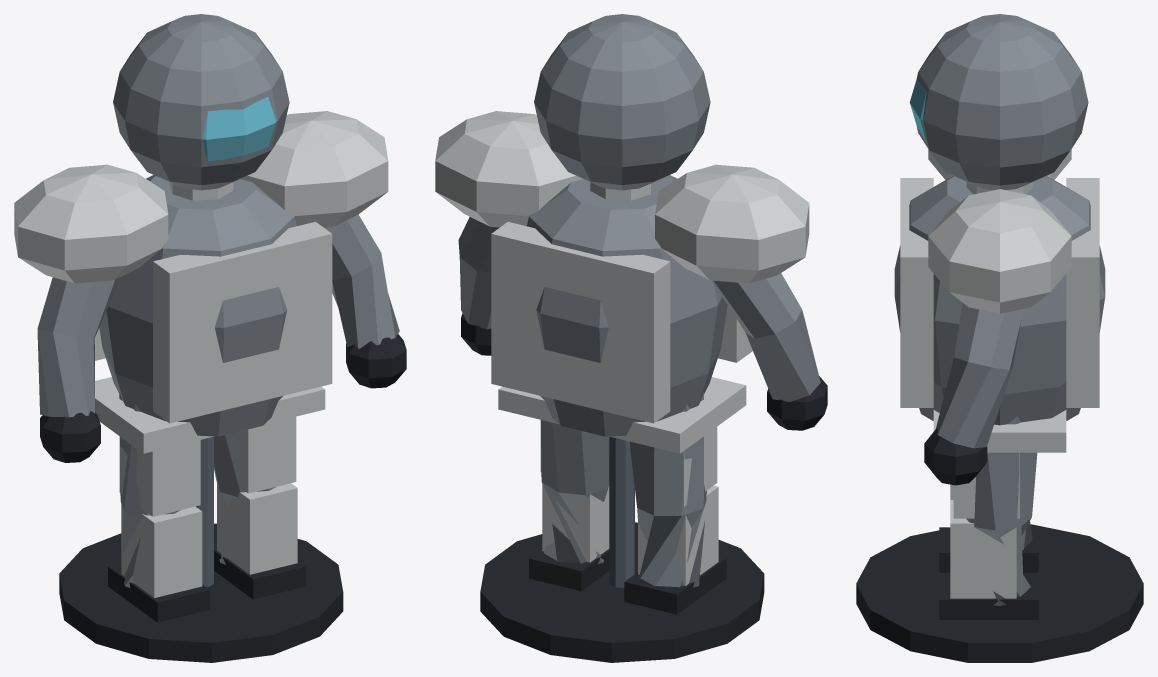
The model's file is laminanium-assault.glb.
The picture shows the model from 3 angles, left to right: view 1: azimuth 30°, elevation 25°; view 2: azimuth 150°, elevation 25°; view 3: azimuth 270°, elevation 25°; orthographic projection.
Visible parts, largest first — view 1: m; view 2: m; view 3: m.
Part boxes in pixels (x1,y1,x2,y2): m: [14, 14, 406, 662]; m: [435, 14, 827, 662]; m: [856, 14, 1143, 662].
Size of the model in its own units: 0.3701 by 0.56 by 0.251.
